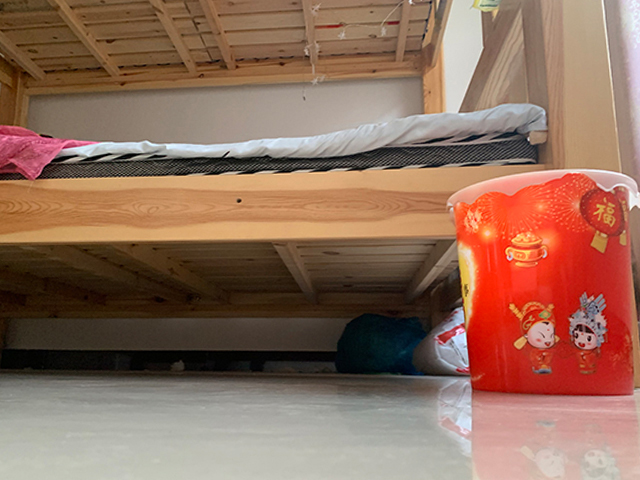bed: (1, 1, 622, 324)
trashcan: (444, 168, 640, 399)
